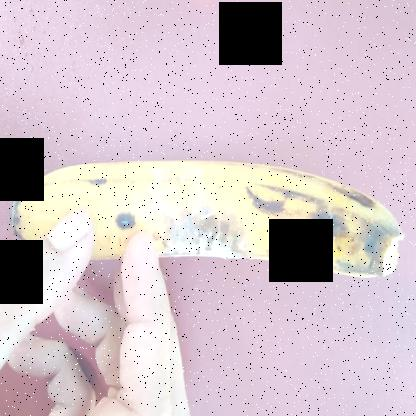overripe: (3, 140, 405, 288)
rotten: (144, 172, 261, 293)
